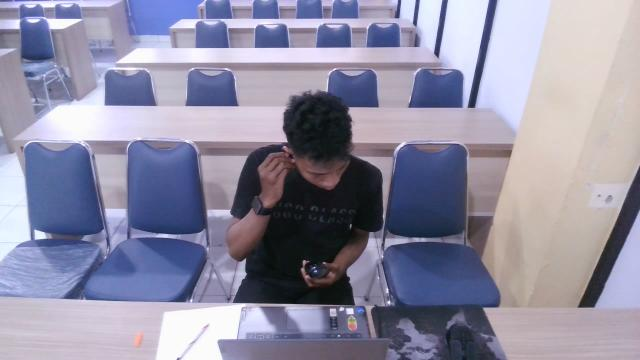Earpiece: (271, 142, 302, 170)
Head_Down_Extreme: (221, 79, 389, 312)
